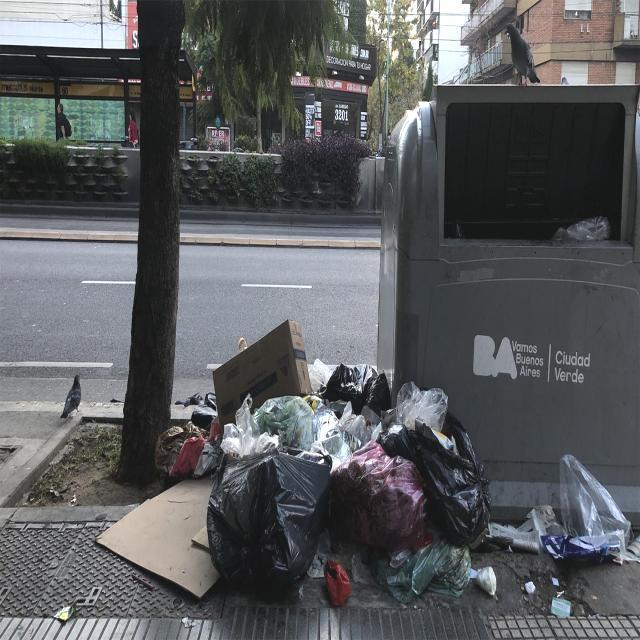high trash: (99, 321, 630, 602)
less trash: (550, 591, 572, 618)
